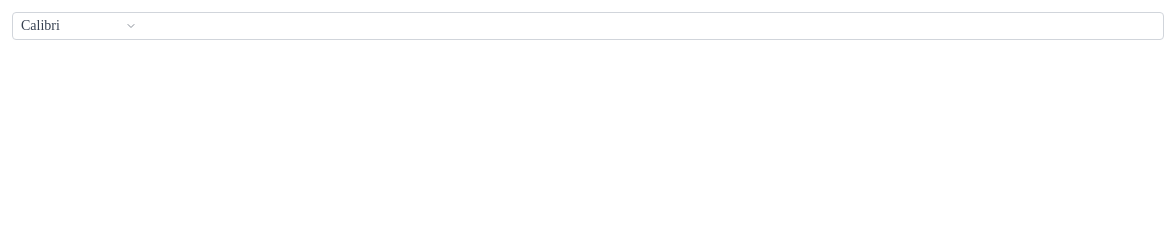
Scenario: FontFamilyInput › clears the family when Default is selected
The width and height of the screenshot is (1164, 225).
Later steps or results of the test are not shown.
Click the button with aria-label "Font Family": (79, 26) 13,13 -> 145,39
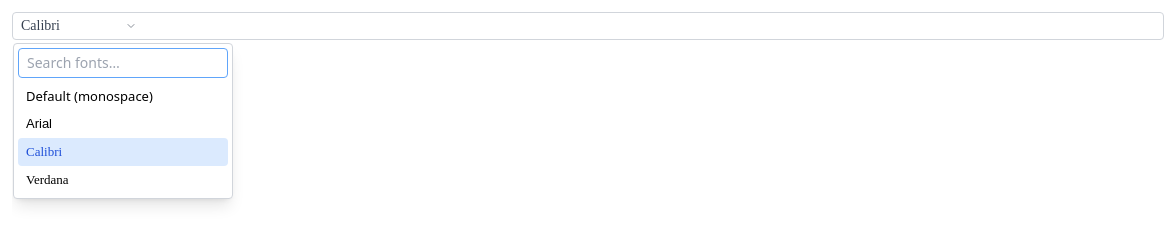
Expected: the option "Default (monospace)" is shown, 18,82 -> 228,110
